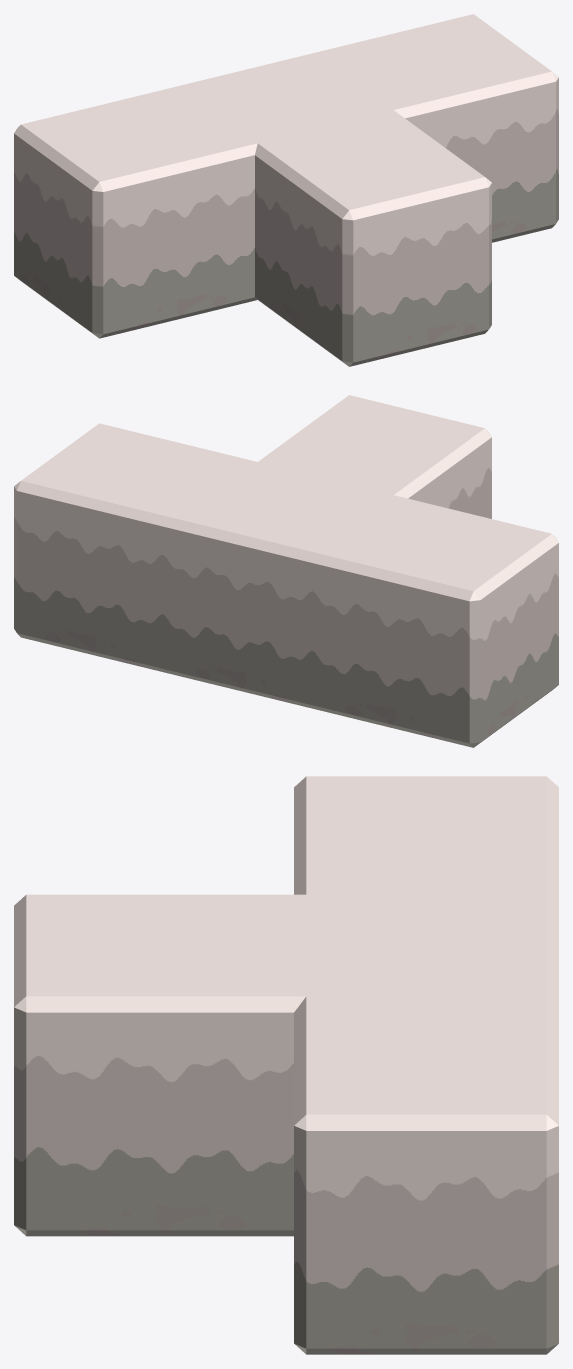
Rendered from R4B_Tee4_LOD1.glb.
3 renders of one model, top to bottom at view 1: azimuth 30°, elevation 25°; view 2: azimuth 150°, elevation 25°; view 3: azimuth 270°, elevation 25°, orthographic. The views are drawn at different scales.
Visible parts, largest first — view 1: R4B_Tee4_LOD1; view 2: R4B_Tee4_LOD1; view 3: R4B_Tee4_LOD1.
Part boxes in pixels (left/top/right/bottom): R4B_Tee4_LOD1: left=14, top=14, right=558, bottom=366; R4B_Tee4_LOD1: left=14, top=395, right=558, bottom=747; R4B_Tee4_LOD1: left=14, top=776, right=558, bottom=1354.
Bounding box in the file's own units: 1.62 × 0.52 × 1.07.
1 material, 1 textured.
